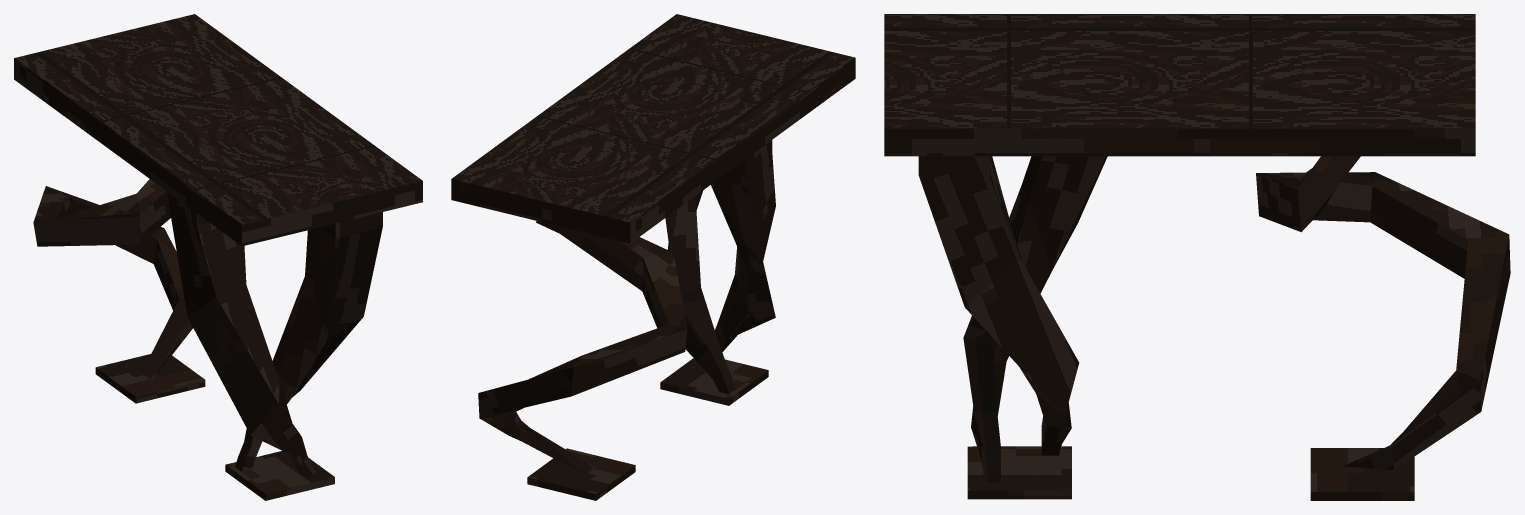
File: mesa-altar.glb
3 views of the same model, side by side, from view 1: azimuth 30°, elevation 25°; view 2: azimuth 150°, elevation 25°; view 3: azimuth 270°, elevation 25° (orthographic). The views are drawn at different scales.
Parts seen in each view (by area): view 1: mesa-col; view 2: mesa-col; view 3: mesa-col.
Part boxes in pixels (left/top/right/bottom): mesa-col: left=14, top=14, right=422, bottom=500; mesa-col: left=451, top=14, right=855, bottom=500; mesa-col: left=884, top=14, right=1510, bottom=500.
Bounding box in the file's own units: 0.4713 × 0.7041 × 0.9839.
Materials: 1 (1 with a texture image).
